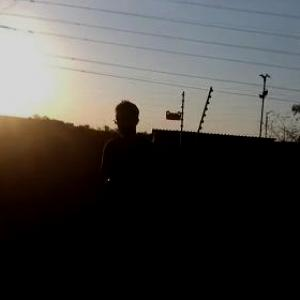follow: (96, 93, 164, 299)
